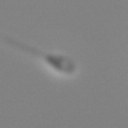normal: (1, 34, 47, 57)
